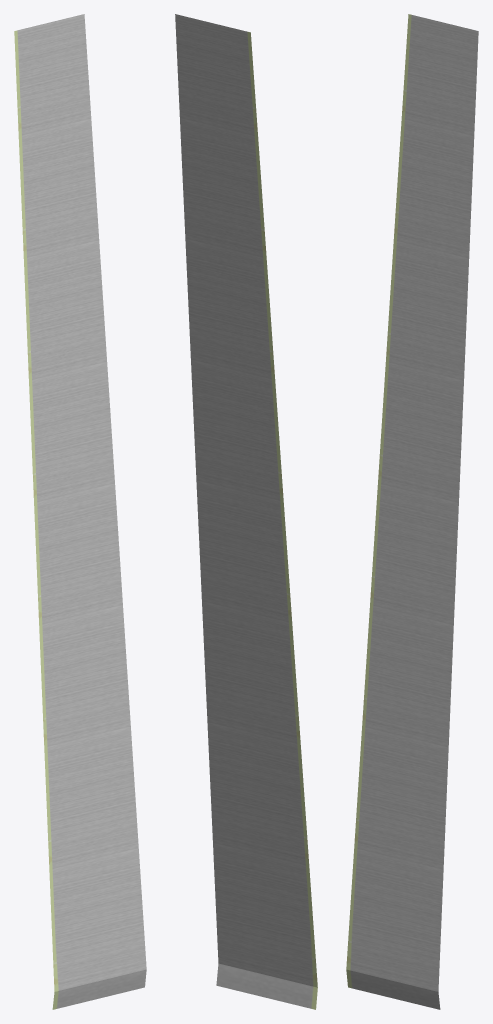
File: M_Home_Garden_Guitar_Snares.fbx
3 views of the same model, side by side, from view 1: azimuth 30°, elevation 25°; view 2: azimuth 150°, elevation 25°; view 3: azimuth 330°, elevation 25° (orthographic). The views are drawn at different scales.
Visible parts, largest first — view 1: M_Home_Garden_Guitar_Snares; view 2: M_Home_Garden_Guitar_Snares; view 3: M_Home_Garden_Guitar_Snares.
Part boxes in pixels (left/top/right/bottom): M_Home_Garden_Guitar_Snares: left=14, top=14, right=146, bottom=1009; M_Home_Garden_Guitar_Snares: left=175, top=14, right=317, bottom=1009; M_Home_Garden_Guitar_Snares: left=346, top=14, right=478, bottom=1009.
Size of the model in its own units: 8.47 by 82.32 by 8.12.
